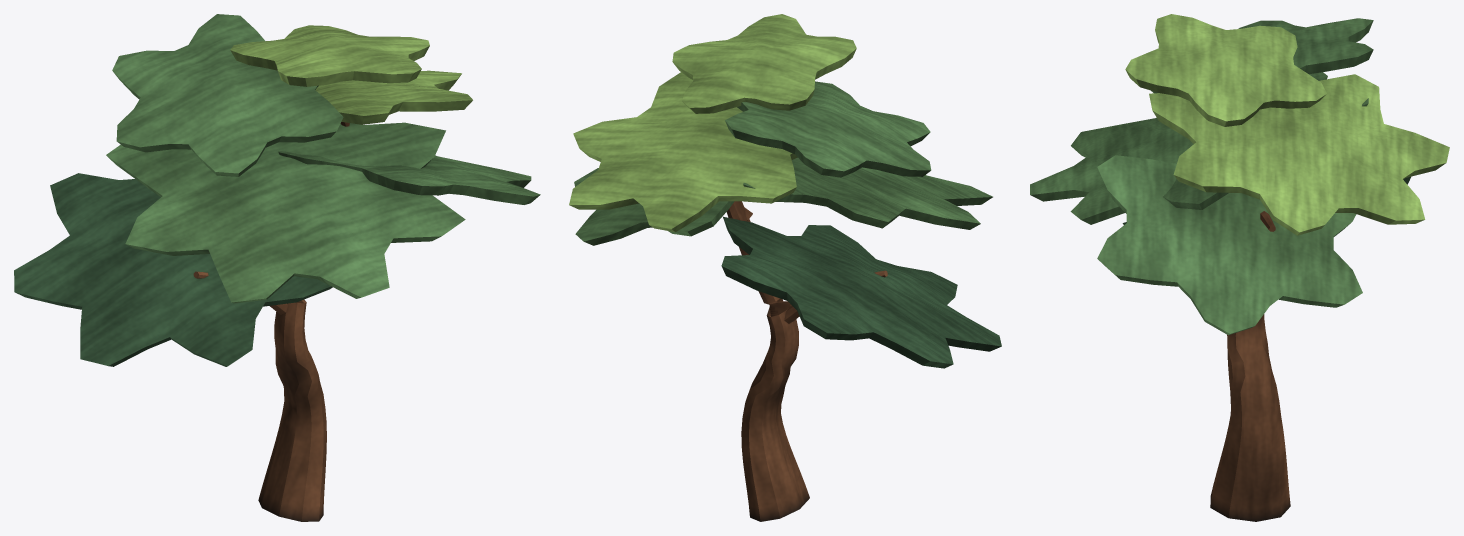
File: d2_tree.glb
3 views of the same model, side by side, from view 1: azimuth 30°, elevation 25°; view 2: azimuth 150°, elevation 25°; view 3: azimuth 270°, elevation 25° (orthographic). The views are drawn at different scales.
Visible parts, largest first — view 1: Tree; view 2: Tree; view 3: Tree.
Boxes of the visible parts, box(x1,y1,x2,y2) form: Tree: box(14, 14, 540, 521); Tree: box(569, 14, 1001, 521); Tree: box(1030, 14, 1449, 521).
Bounding box in the file's own units: 2.75 × 2.72 × 2.18.
Materials: 1 (1 with a texture image).
